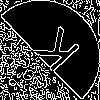K: (25, 25, 83, 81)
